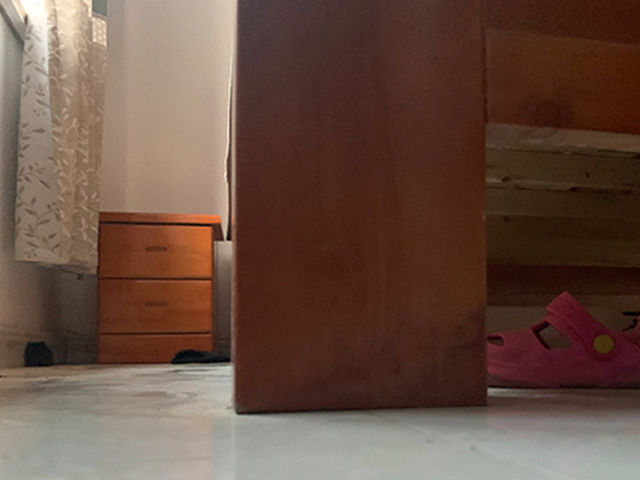bed: (226, 1, 640, 413)
cabinet: (94, 212, 225, 365)
slippers: (486, 290, 640, 391)
